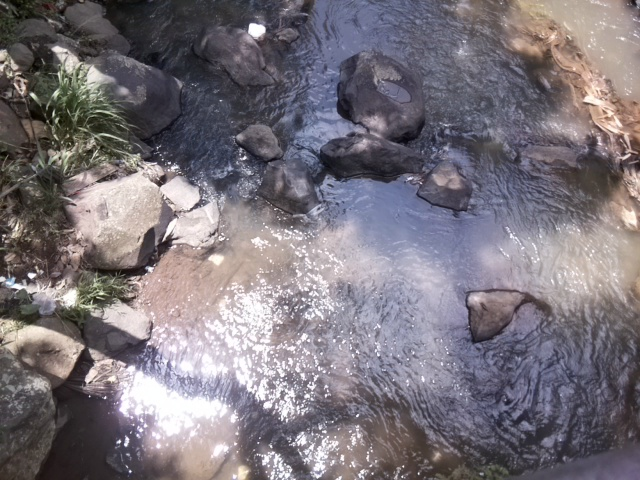Sampah_Styrofoam: (245, 21, 269, 40)
